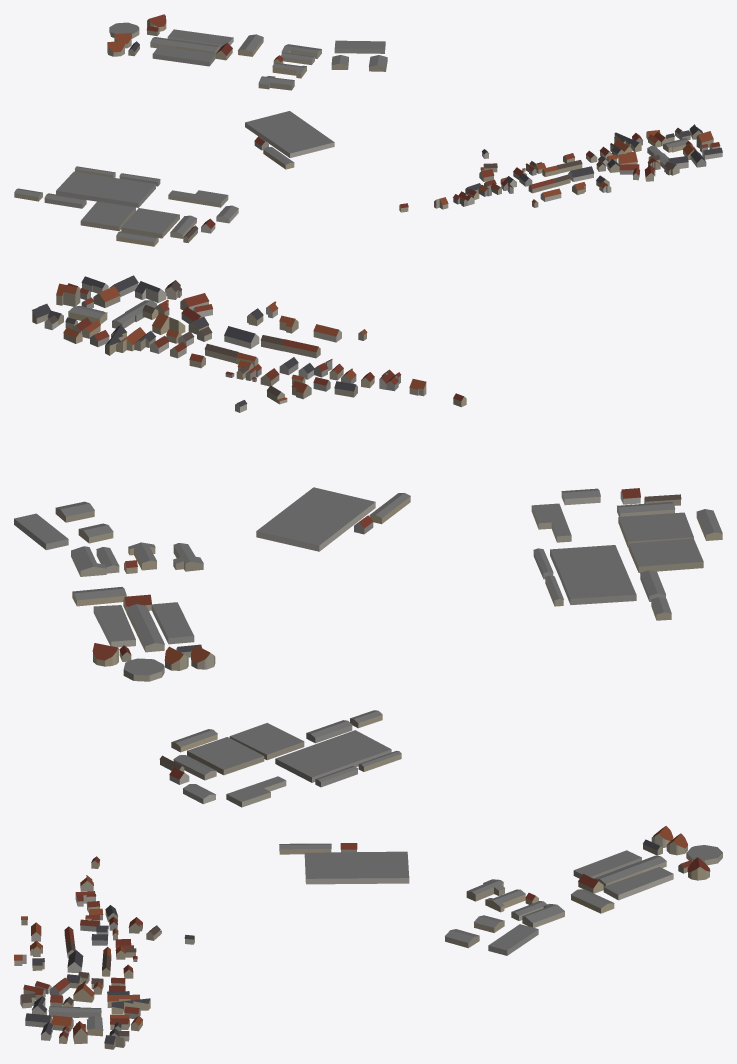
The picture shows the model from 3 angles, top to bottom: view 1: azimuth 30°, elevation 25°; view 2: azimuth 150°, elevation 25°; view 3: azimuth 270°, elevation 25°; orthographic projection. The views are drawn at different scales.
Parts seen in each view (by area): view 1: buildings; view 2: buildings; view 3: buildings.
Part boxes in pixels (x1,y1,x2,y2): buildings: [14, 14, 722, 246]; buildings: [14, 275, 722, 681]; buildings: [14, 710, 722, 1049].
Bounding box in the file's own units: 787 × 22.84 × 702.
